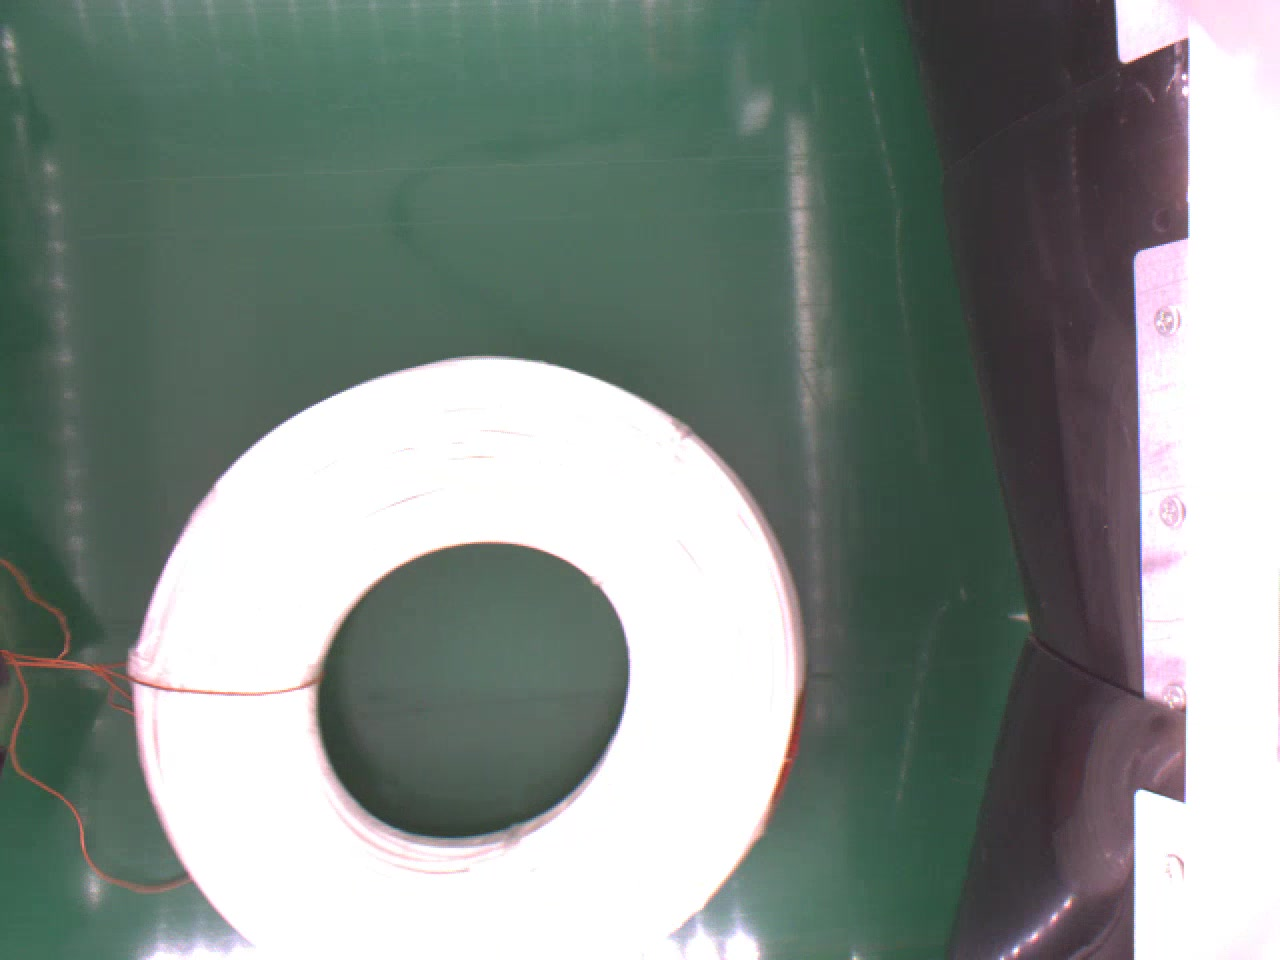white: (134, 352, 807, 960)
